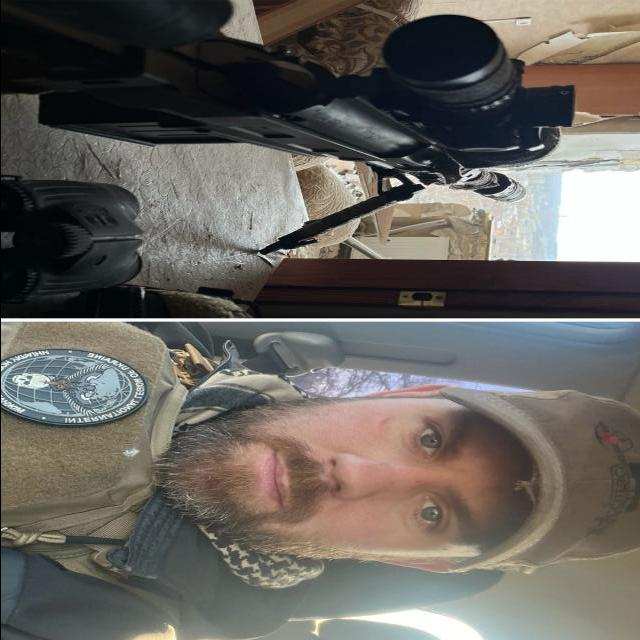scope: (366, 20, 582, 163)
sniper rifle: (1, 2, 548, 256)
